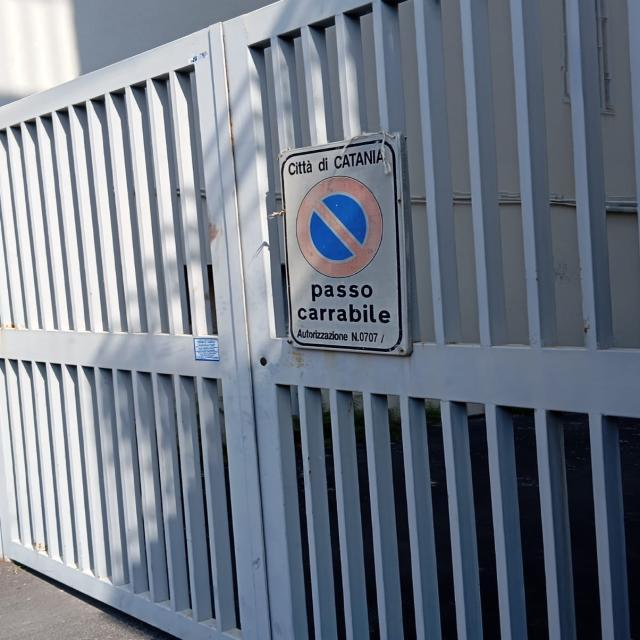forb_stopping: (295, 176, 385, 280)
